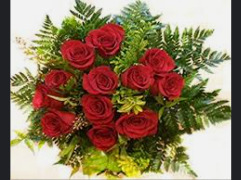RedRose: (87, 22, 126, 59), (118, 108, 163, 136), (81, 65, 119, 97), (78, 94, 115, 125), (40, 110, 78, 140), (61, 37, 96, 69)
